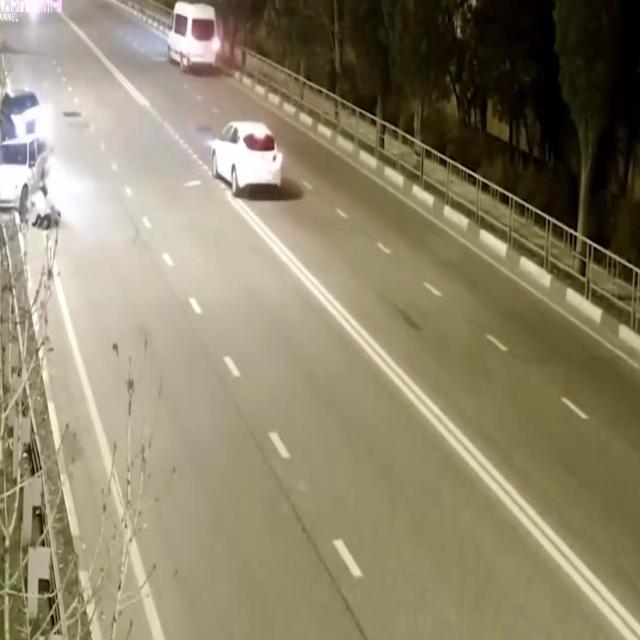accident: (1, 128, 67, 244)
